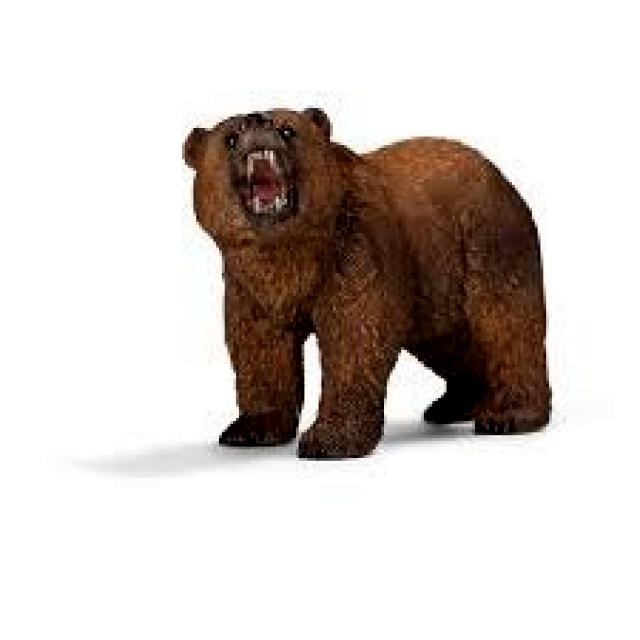bear: (168, 85, 575, 475)
